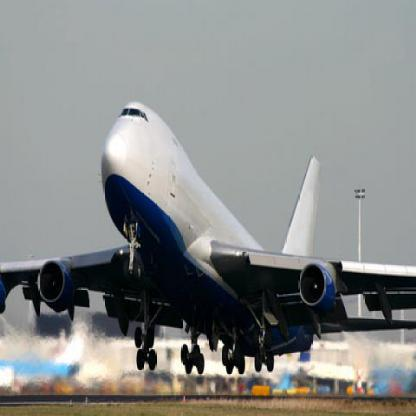CIV_Plane: (0, 94, 415, 372)
